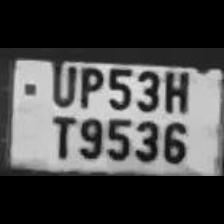3: (134, 66, 160, 112), (132, 116, 158, 162)
5: (102, 62, 132, 110), (104, 115, 130, 161)
6: (160, 118, 190, 166)
9: (75, 113, 103, 159)
H: (160, 64, 192, 114)
P: (76, 62, 104, 110)
T: (44, 110, 76, 160)
U: (46, 56, 76, 106)
